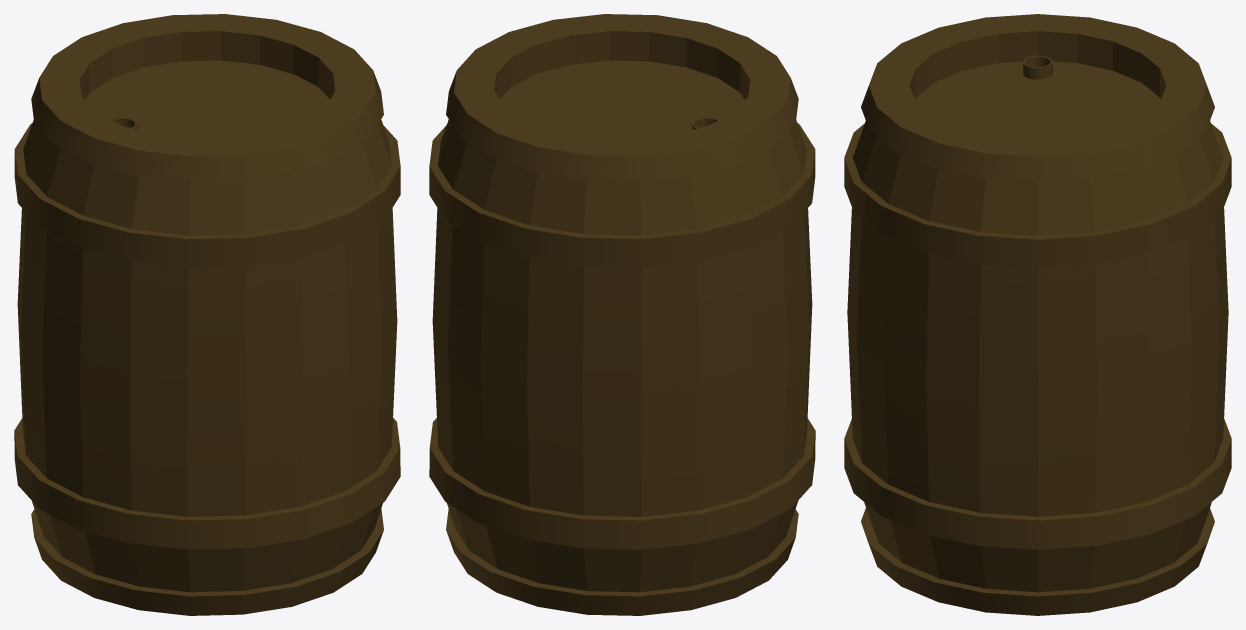
The model's file is barril.fbx.
The picture shows the model from 3 angles, left to right: view 1: azimuth 30°, elevation 25°; view 2: azimuth 150°, elevation 25°; view 3: azimuth 270°, elevation 25°; orthographic projection.
Parts seen in each view (by area): view 1: pCylinder3; view 2: pCylinder3; view 3: pCylinder3.
Part boxes in pixels (box(x1,y1,x2,y2)): pCylinder3: box(14, 14, 400, 615); pCylinder3: box(429, 14, 815, 615); pCylinder3: box(844, 14, 1231, 615).
Size of the model in its own units: 1.9 by 2.48 by 1.89.
